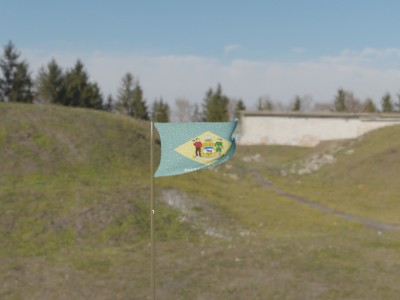Delaware flag: (151, 120, 244, 177)
